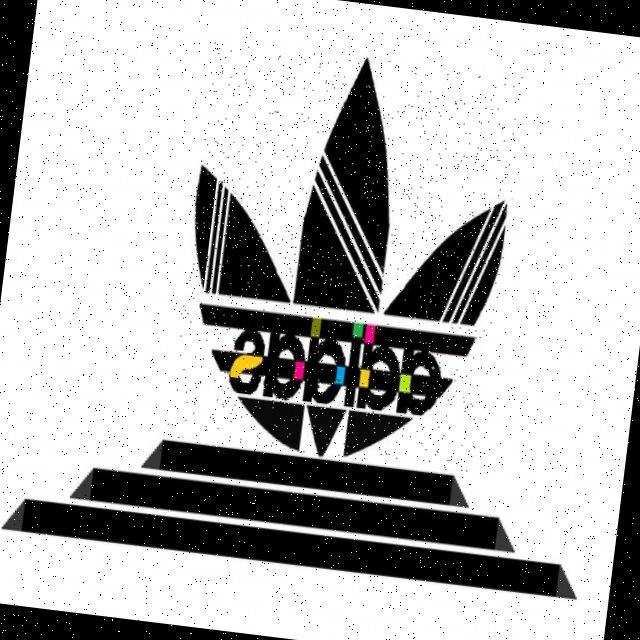Adidas: (166, 40, 525, 475)
